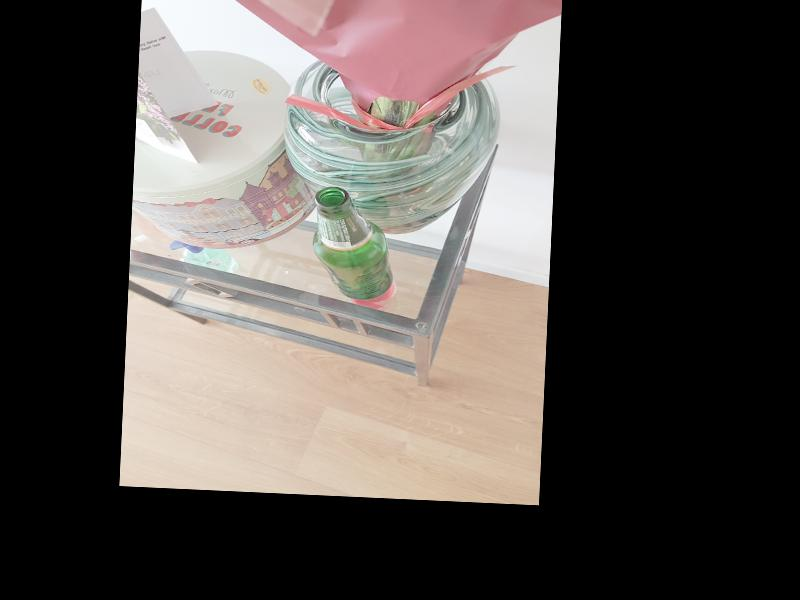Beer: (309, 186, 397, 301)
